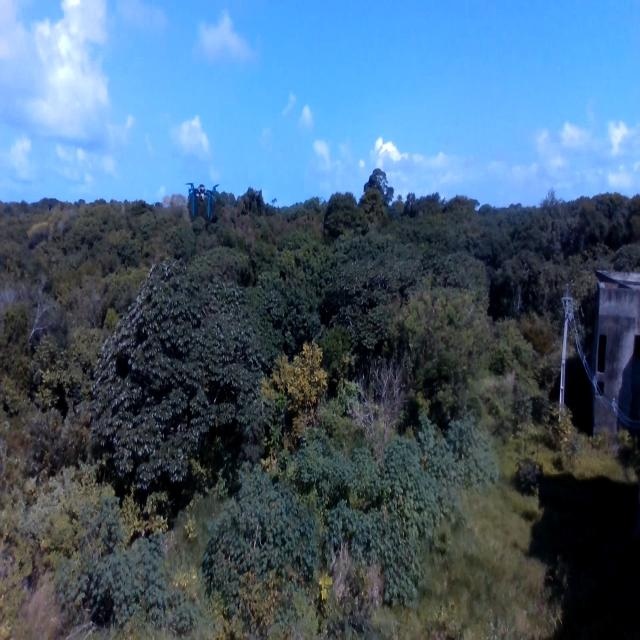-uav-: (183, 172, 220, 222)
